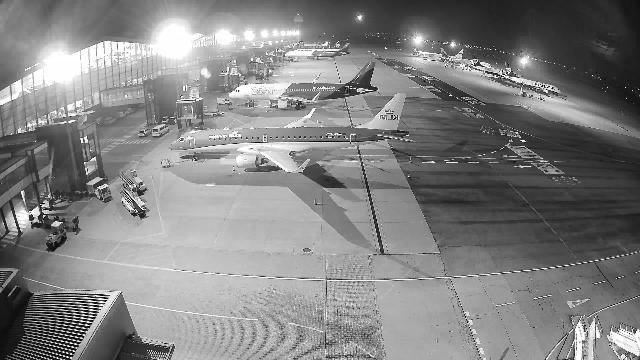Aircraft: (169, 93, 416, 173), (228, 62, 378, 109), (498, 61, 561, 95), (468, 53, 524, 79), (284, 43, 350, 58), (449, 50, 492, 69), (293, 40, 342, 52), (423, 49, 467, 60)
Airport_Tractor: (45, 221, 66, 249), (94, 183, 112, 202)
Baggage_Trolley: (86, 177, 103, 193), (61, 216, 79, 230), (43, 215, 59, 228), (28, 213, 44, 225), (59, 190, 74, 202)
Conveyor_Belt: (120, 184, 147, 215), (118, 168, 147, 194), (203, 106, 224, 116)
